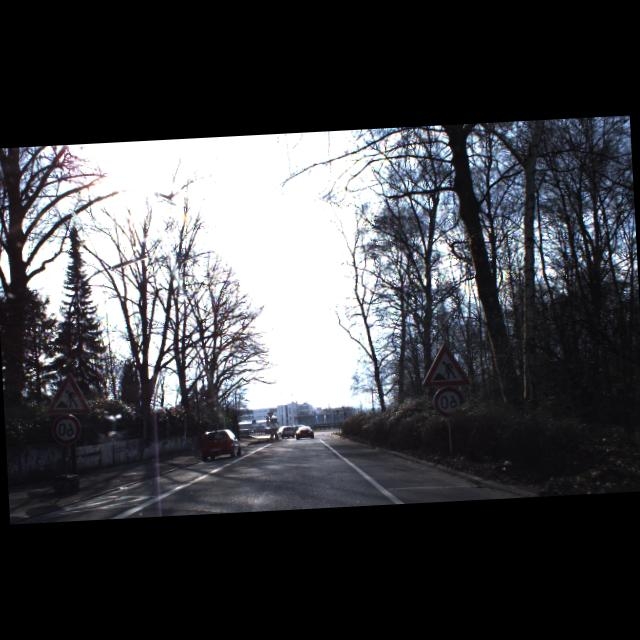danger: (420, 342, 471, 388), (44, 372, 92, 416)
prohibitory: (433, 386, 466, 419), (52, 413, 84, 446)
